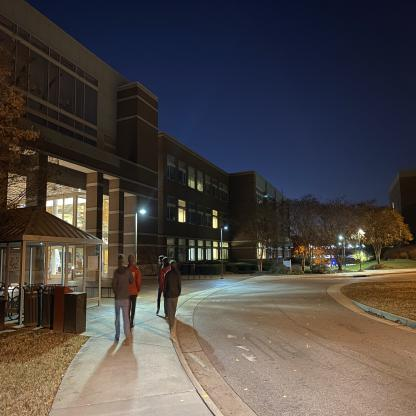eb2: (0, 4, 330, 280)
